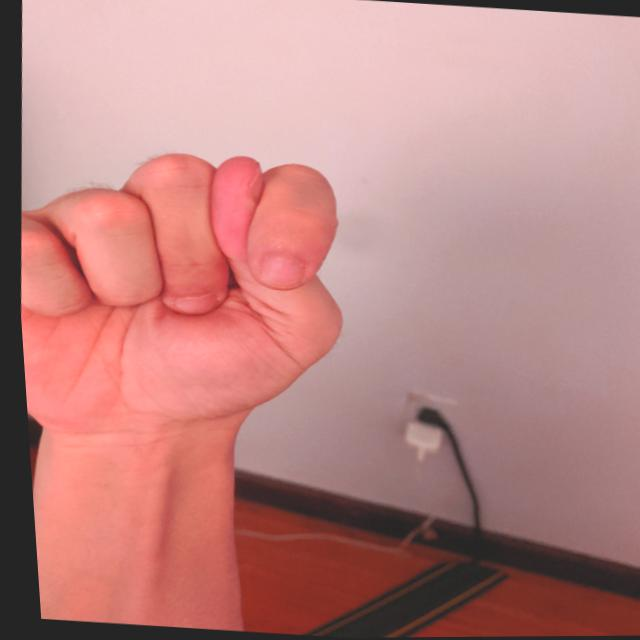T: (7, 125, 372, 464)
